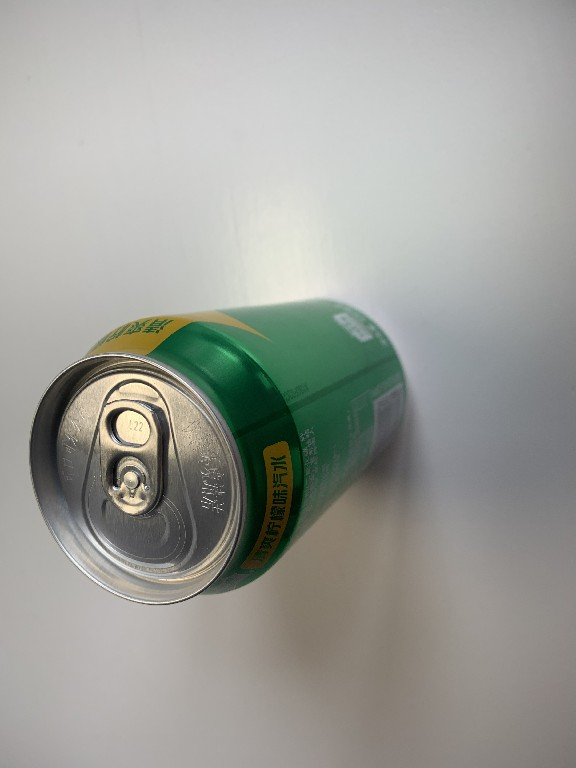can: (26, 292, 411, 609)
